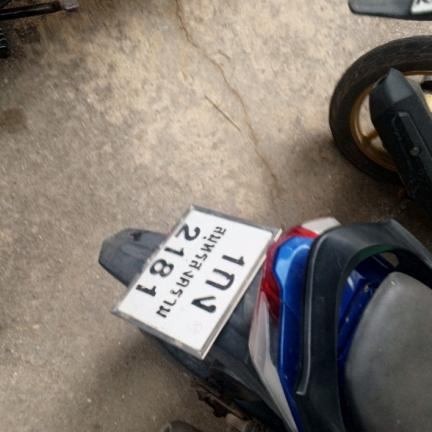1: (217, 248, 253, 271), (128, 279, 164, 302), (158, 241, 193, 261)
2: (170, 219, 207, 245)
8: (144, 255, 181, 281)
A01: (203, 264, 240, 295)
A07: (188, 288, 225, 318)
SKM: (149, 224, 232, 324)
